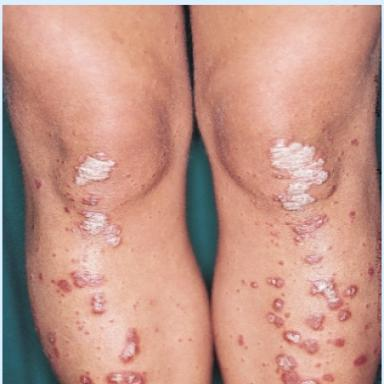Psoriasis: (270, 139, 329, 210), (80, 211, 121, 247), (75, 152, 115, 186), (277, 354, 318, 384), (293, 215, 329, 242), (311, 279, 342, 309), (120, 329, 138, 362), (71, 271, 103, 287), (107, 371, 144, 384), (46, 332, 60, 358), (306, 313, 325, 330), (92, 293, 105, 313), (267, 313, 284, 328), (302, 339, 318, 353), (303, 254, 323, 265), (284, 331, 301, 343), (267, 277, 285, 288), (82, 195, 99, 205), (338, 309, 352, 321), (344, 285, 357, 296), (273, 299, 284, 311), (81, 376, 93, 384)
